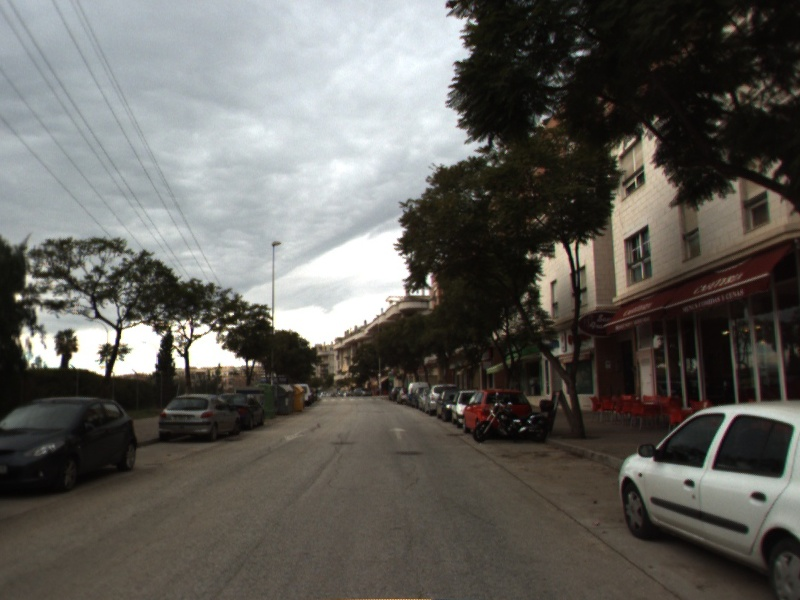STRAIGHT: (386, 425, 409, 442)
